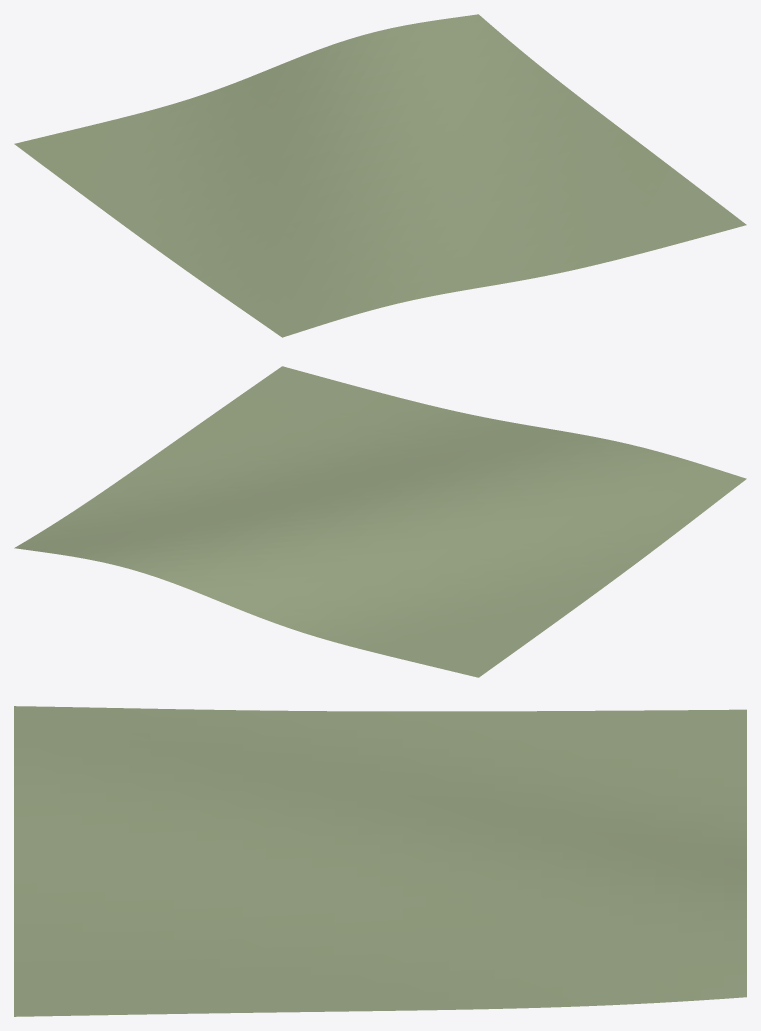
Rendered from desert-5-10.glb.
3 views of the same model, one above another, from view 1: azimuth 30°, elevation 25°; view 2: azimuth 150°, elevation 25°; view 3: azimuth 270°, elevation 25° (orthographic). The views are drawn at different scales.
Visible parts, largest first — view 1: desert-5-10; view 2: desert-5-10; view 3: desert-5-10.
Part boxes in pixels (box(x1,y1,x2,y2)): desert-5-10: box(14, 14, 746, 337); desert-5-10: box(14, 366, 746, 677); desert-5-10: box(14, 706, 746, 1016).
Bounding box in the file's own units: 512 × 26.54 × 512.
